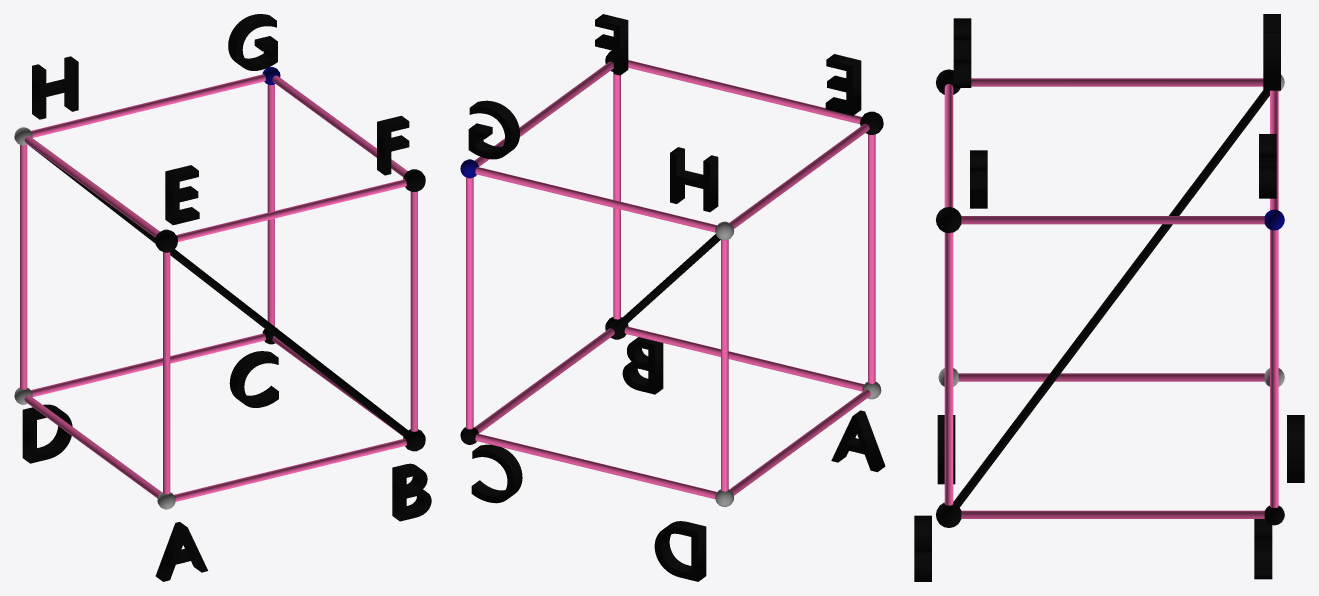
The model's file is res_10038.glb.
3 renders of one model, left to right at view 1: azimuth 30°, elevation 25°; view 2: azimuth 150°, elevation 25°; view 3: azimuth 270°, elevation 25°, orthographic. The views are drawn at different scales.
Visible parts, largest first — view 1: imagetostl_mesh20, imagetostl_mesh14, imagetostl_mesh15, imagetostl_mesh8, imagetostl_mesh11, imagetostl_mesh10, imagetostl_mesh9, imagetostl_mesh19, imagetostl_mesh17, Text.006, Text.007, Text.001 (+8 smaller); view 2: Text.003, imagetostl_mesh19, imagetostl_mesh15, imagetostl_mesh14, imagetostl_mesh17, imagetostl_mesh8, imagetostl_mesh11, Text.006, imagetostl_mesh9, Text.007, imagetostl_mesh10, Text.001 (+9 smaller); view 3: imagetostl_mesh20, imagetostl_mesh16, imagetostl_mesh18, imagetostl_mesh10, imagetostl_mesh13, imagetostl_mesh12, imagetostl_mesh17, Text.007, Text.004, imagetostl_mesh9, Text.003, Text.001 (+7 smaller).
Part boxes in pixels (x1,y1,x2,y2): imagetostl_mesh20: (29, 145, 407, 436); imagetostl_mesh14: (20, 145, 27, 389); imagetostl_mesh15: (31, 74, 265, 137); imagetostl_mesh8: (163, 252, 170, 494); imagetostl_mesh11: (174, 438, 406, 501); imagetostl_mesh10: (410, 191, 417, 431); imagetostl_mesh9: (176, 179, 406, 241); imagetostl_mesh19: (31, 333, 265, 397); imagetostl_mesh17: (267, 84, 274, 326); Text.006: (228, 14, 277, 70); Text.007: (32, 56, 78, 119); Text.001: (392, 463, 431, 521); Text.003: (654, 521, 706, 581); imagetostl_mesh19: (475, 433, 716, 499); imagetostl_mesh15: (475, 167, 716, 232); imagetostl_mesh14: (721, 239, 728, 491); imagetostl_mesh17: (466, 177, 473, 429); imagetostl_mesh8: (868, 134, 875, 383); imagetostl_mesh11: (624, 326, 864, 391); Text.006: (468, 100, 519, 159); imagetostl_mesh9: (628, 60, 861, 124); Text.007: (670, 147, 718, 212); imagetostl_mesh10: (613, 72, 620, 319); Text.001: (622, 337, 663, 394); imagetostl_mesh20: (953, 90, 1269, 507); imagetostl_mesh16: (961, 216, 1264, 224); imagetostl_mesh18: (961, 510, 1264, 518); imagetostl_mesh10: (944, 232, 953, 505); imagetostl_mesh13: (958, 373, 1264, 381); imagetostl_mesh12: (971, 78, 1263, 86); imagetostl_mesh17: (1270, 230, 1278, 507); Text.007: (1263, 14, 1280, 90); Text.004: (953, 18, 971, 87); imagetostl_mesh9: (944, 84, 953, 207); Text.003: (1287, 415, 1304, 482); Text.001: (914, 515, 931, 581).
Size of the model in its own units: 1.08 by 1.55 by 1.2.
